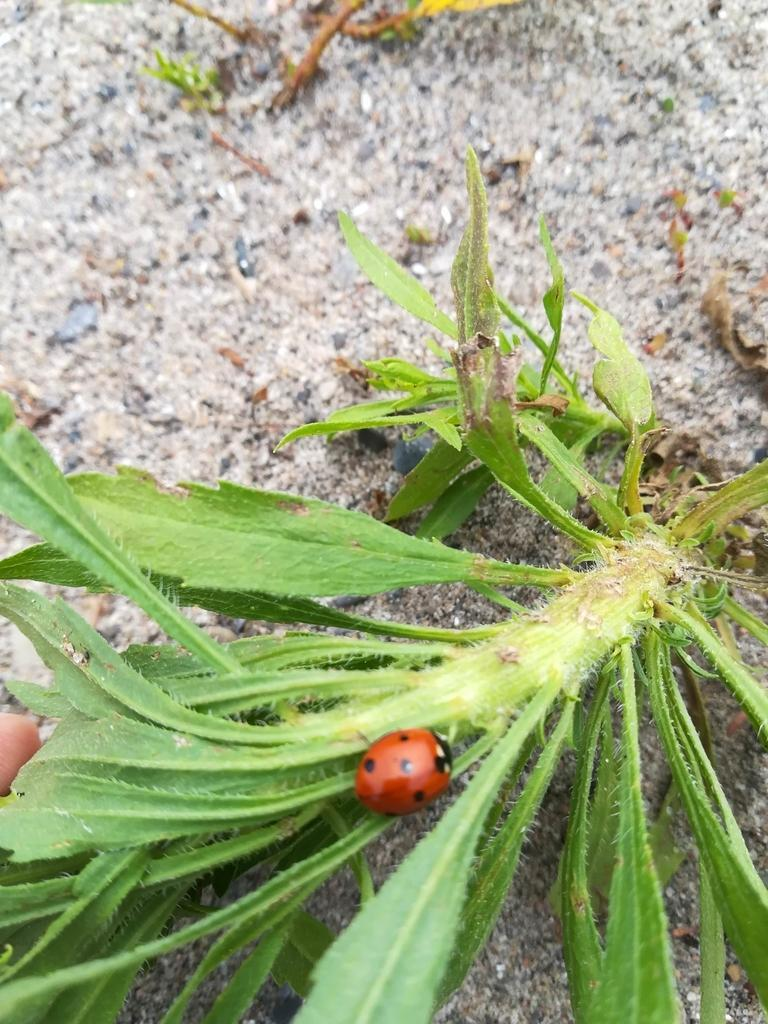ladybug: (351, 724, 459, 819)
